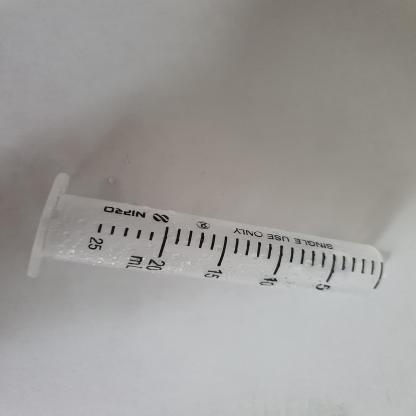wet: (19, 170, 400, 302)
